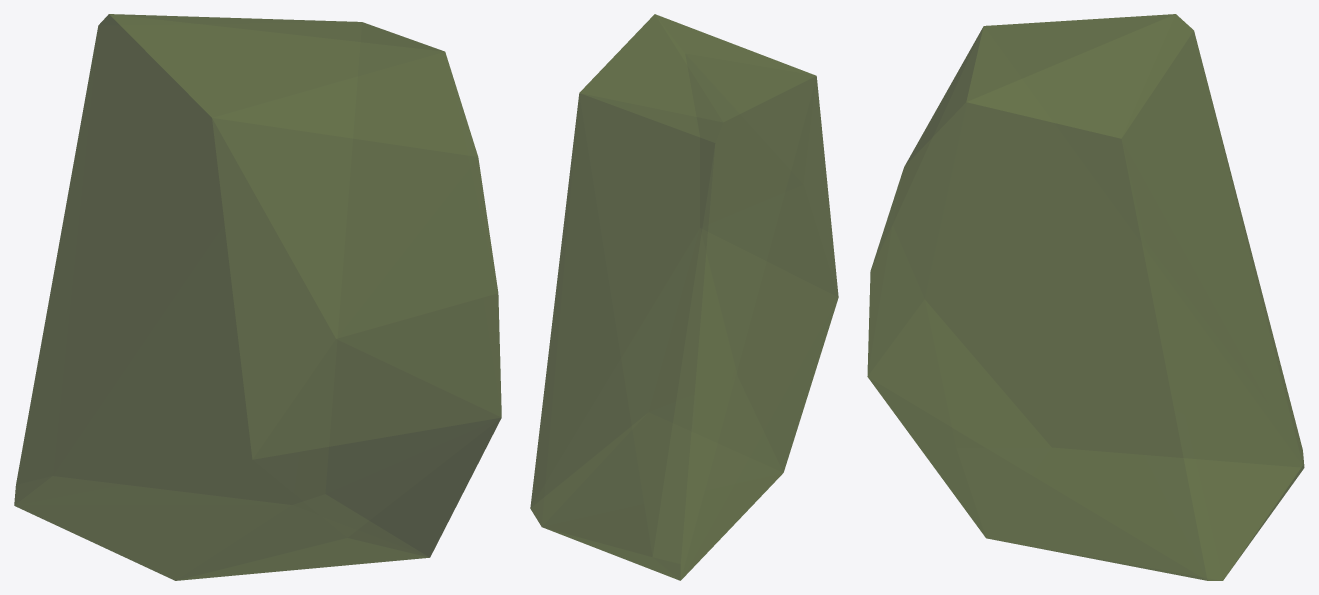
3 renders of one model, left to right at view 1: azimuth 30°, elevation 25°; view 2: azimuth 150°, elevation 25°; view 3: azimuth 270°, elevation 25°, orthographic. The views are drawn at different scales.
Parts seen in each view (by area): view 1: Shape_IndexedFaceSet.020_Shape_IndexedFaceSet.20397; view 2: Shape_IndexedFaceSet.020_Shape_IndexedFaceSet.20397; view 3: Shape_IndexedFaceSet.020_Shape_IndexedFaceSet.20397.
Part boxes in pixels (<box>): Shape_IndexedFaceSet.020_Shape_IndexedFaceSet.20397: <box>14,14,501,580</box>; Shape_IndexedFaceSet.020_Shape_IndexedFaceSet.20397: <box>530,14,838,580</box>; Shape_IndexedFaceSet.020_Shape_IndexedFaceSet.20397: <box>867,14,1304,580</box>.
Bounding box in the file's own units: 0.1055 × 0.2232 × 0.1843.
